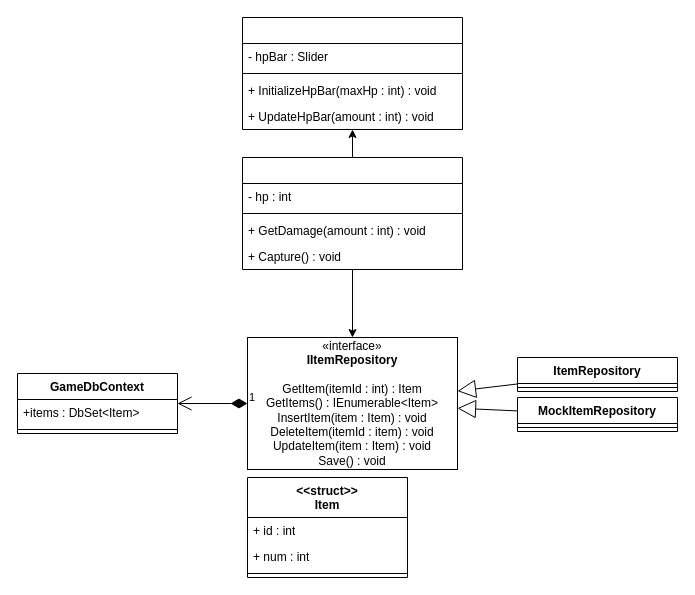
Image size: 695x595. Some labels were removed from this diagram. Each missing label, with the box of its shape:
MonsterController: (242, 156, 462, 270)
MonsterView: (242, 16, 462, 130)
